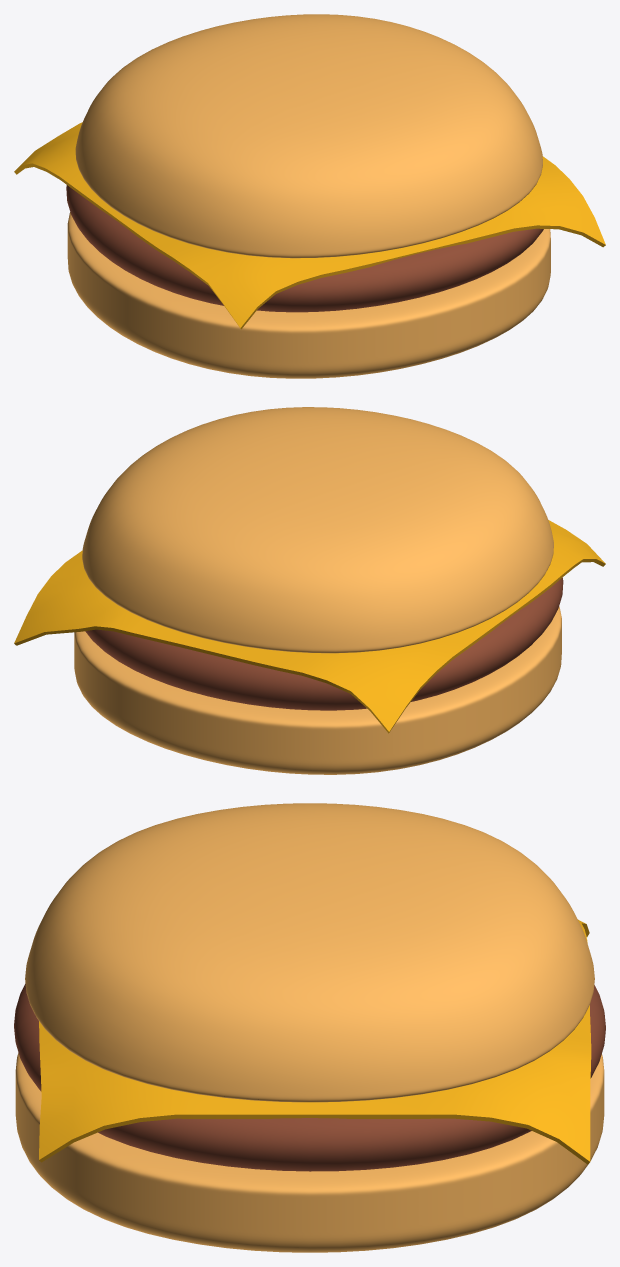
Rendered from hamburger.glb.
The picture shows the model from 3 angles, top to bottom: view 1: azimuth 30°, elevation 25°; view 2: azimuth 150°, elevation 25°; view 3: azimuth 270°, elevation 25°; orthographic projection. The views are drawn at different scales.
Visible parts, largest first — view 1: TopBun, BottomBun, Cheese, Meat; view 2: TopBun, BottomBun, Cheese, Meat; view 3: TopBun, BottomBun, Cheese, Meat.
Boxes of the visible parts, x1,y1,x2,y2 form: TopBun: (75,14,542,258); BottomBun: (67,212,550,378); Cheese: (14,122,605,329); Meat: (66,185,543,312); TopBun: (82,407,553,653); BottomBun: (74,606,561,774); Cheese: (14,520,605,733); Meat: (85,577,563,710); TopBun: (25,803,594,1102); BottomBun: (15,1052,604,1252); Cheese: (39,919,591,1164); Meat: (14,983,605,1171).
Size of the model in its own units: 9.22 by 4.87 by 9.22.
